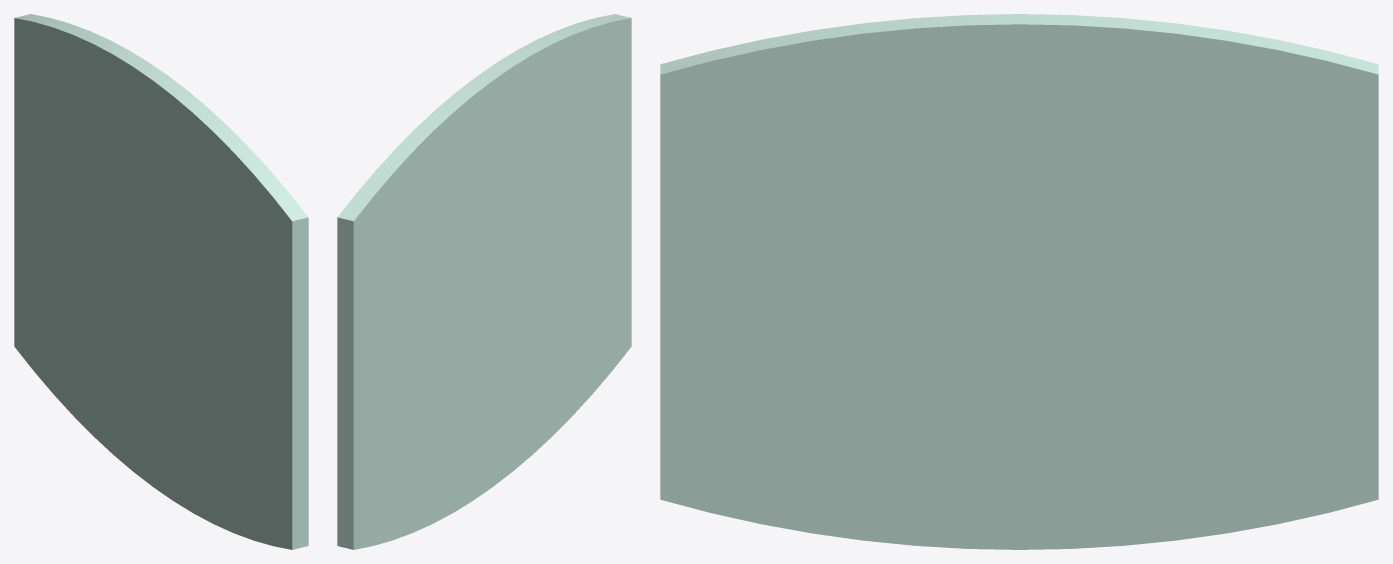
3 renders of one model, left to right at view 1: azimuth 30°, elevation 25°; view 2: azimuth 150°, elevation 25°; view 3: azimuth 270°, elevation 25°, orthographic. The views are drawn at different scales.
Parts seen in each view (by area): view 1: Renderer Node; view 2: Renderer Node; view 3: Renderer Node.
Boxes of the visible parts, box(x1,y1,x2,y2) form: Renderer Node: box(14, 14, 308, 549); Renderer Node: box(337, 14, 631, 549); Renderer Node: box(660, 14, 1378, 549).
Size of the model in its own units: 0.0391 by 0.9271 by 1.15.
